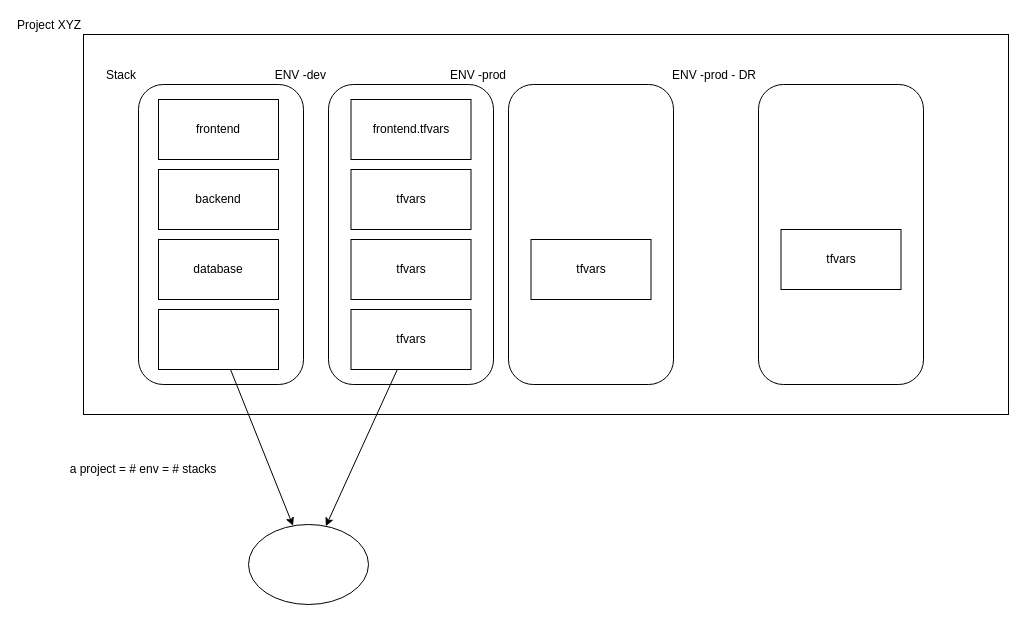
Some shapes in this 1026 by 622 pixel diagram are drawn without their labels. The centre of each missing label's shape, as x and y in pixels:
baseline: the point at 218,339
module external or internal: the point at 308,564
